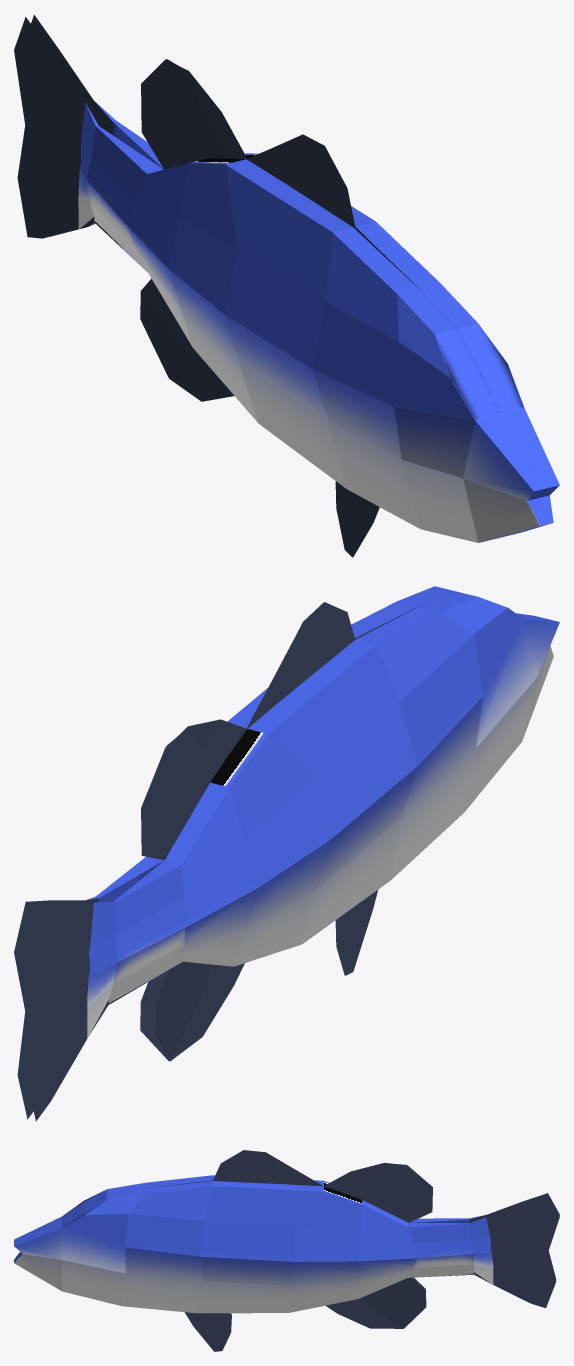
The model's file is fish_6.glb.
3 views of the same model, one above another, from view 1: azimuth 30°, elevation 25°; view 2: azimuth 150°, elevation 25°; view 3: azimuth 270°, elevation 25° (orthographic). The views are drawn at different scales.
Parts seen in each view (by area): view 1: Cube.002_Material_0; view 2: Cube.002_Material_0; view 3: Cube.002_Material_0.
Part boxes in pixels (x1,y1,x2,y2): Cube.002_Material_0: (14,14,559,557); Cube.002_Material_0: (14,586,559,1121); Cube.002_Material_0: (14,1150,559,1351).
Size of the model in its own units: 17.03 by 60.38 by 148.
Materials: 1 (1 with a texture image).
